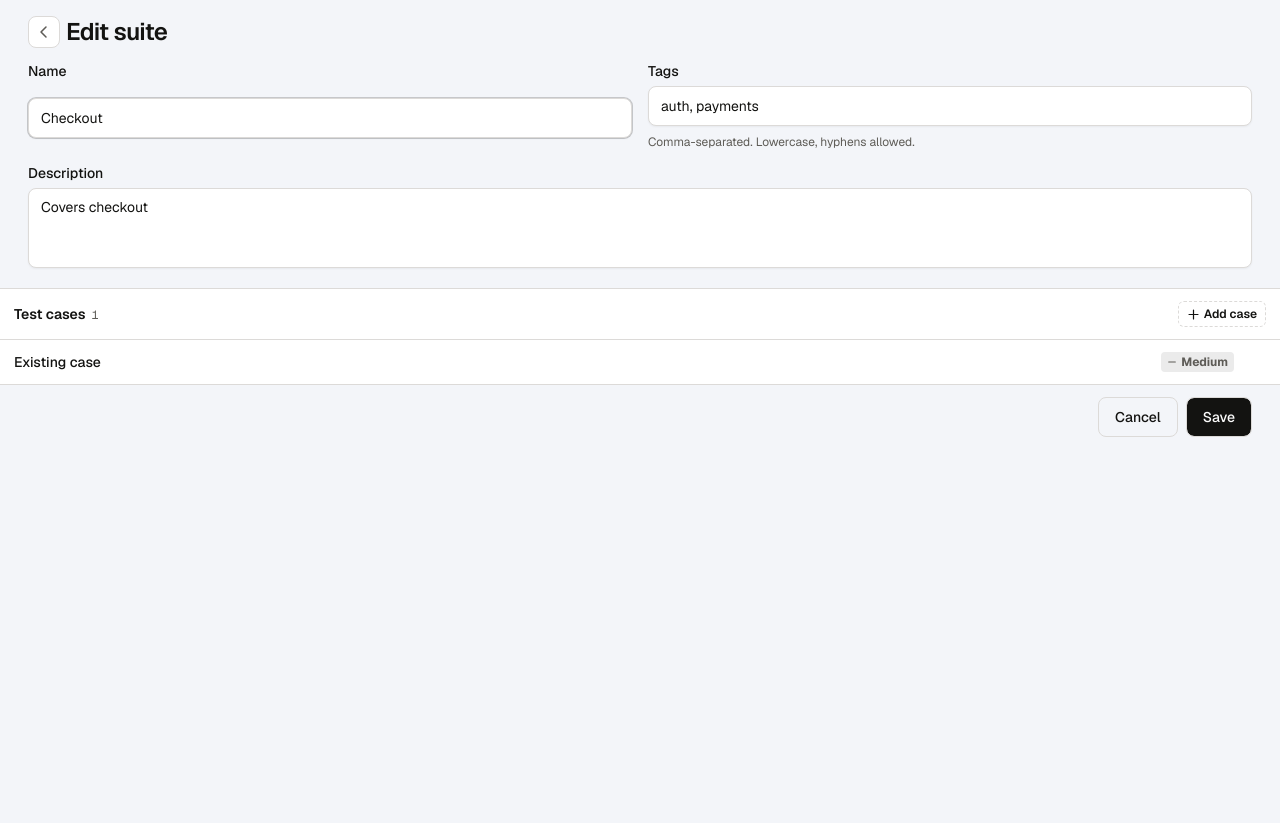
it: SuiteForm › inline case management › on mobile, selecting a case swaps the list for the editor, with a way back
Expected: the button "Add case" is shown, [1178,301,1266,327]
Click the button "Existing case" at (57, 362), box [14,352,1153,372]
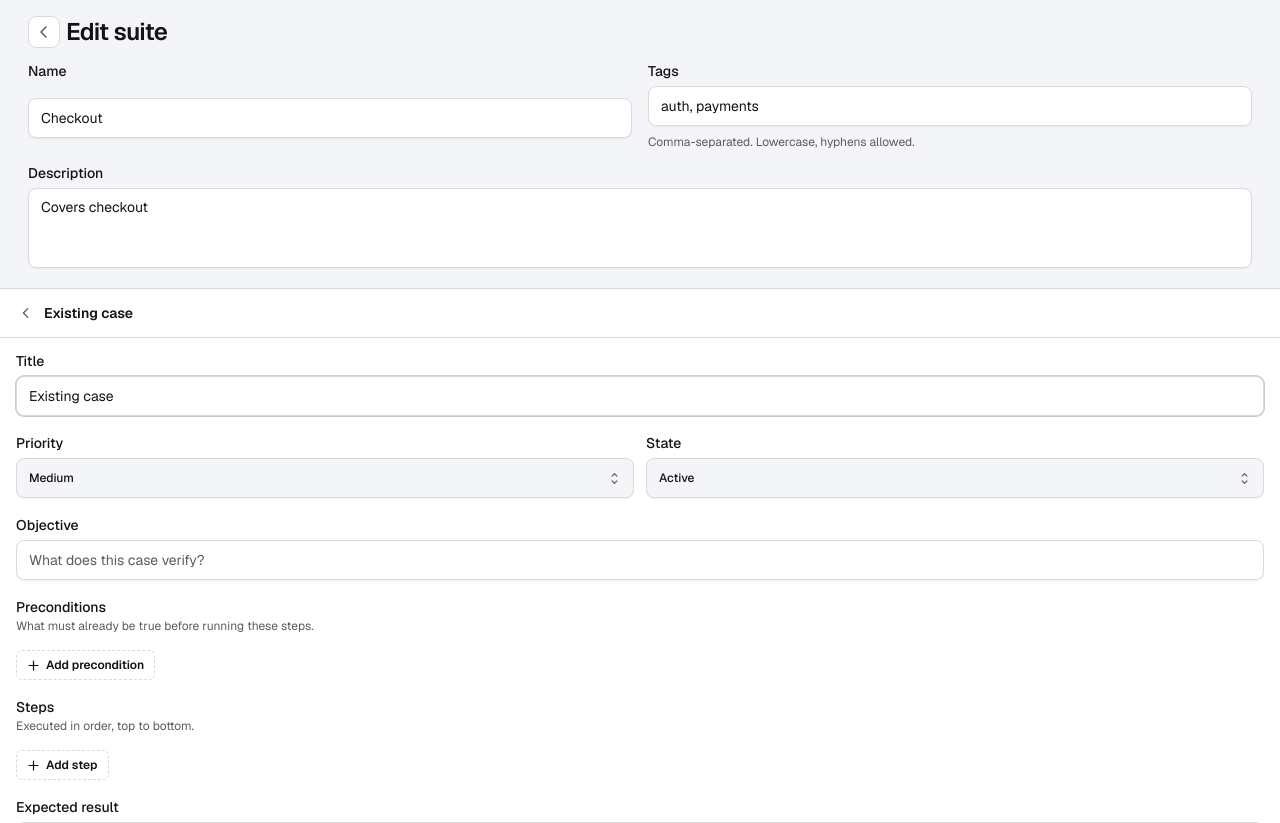
Expected: the heading "Existing case" is shown, [44,303,133,323]
Expected: the button "Add case" is gone
Expected: the field labelled "Title" holds "Existing case", [16,376,1264,416]
Click the button named "Back to cases" at (26, 313), box [14,301,38,325]
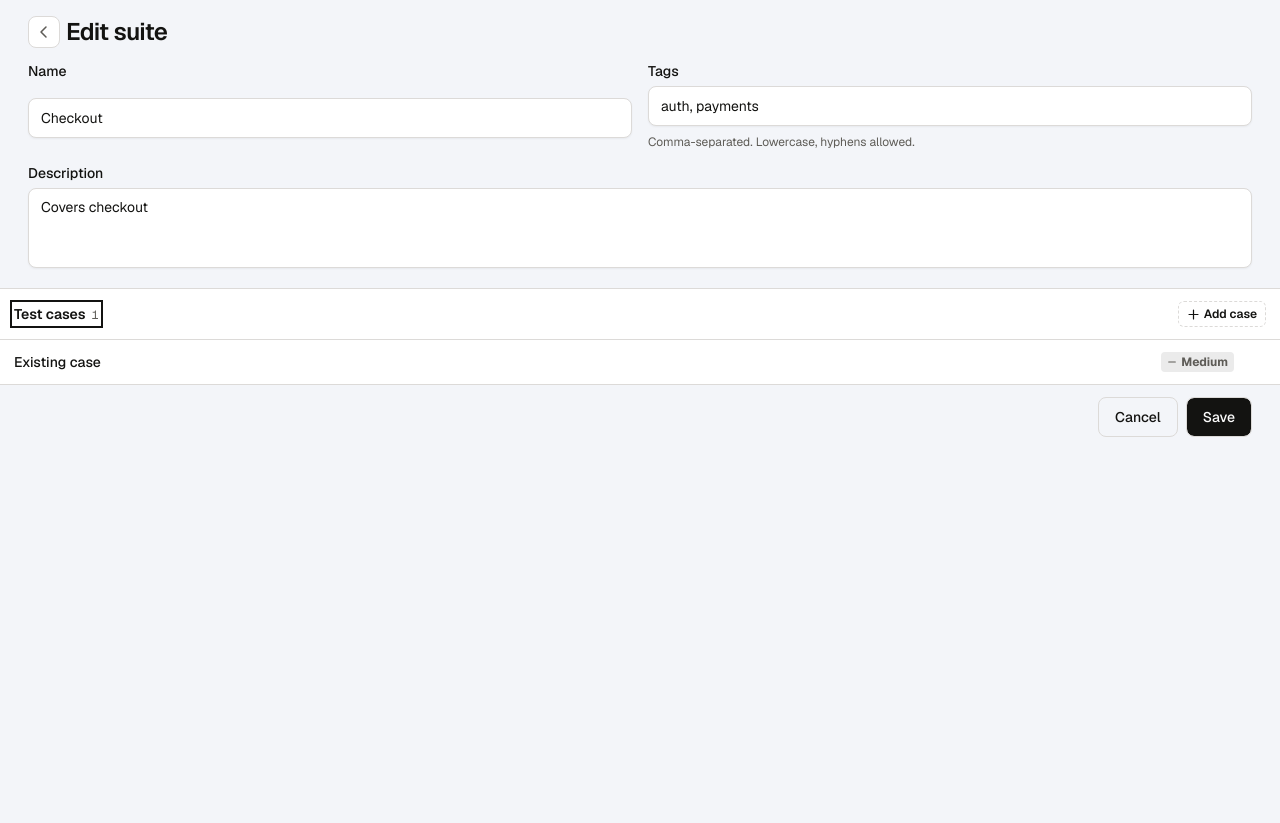
Expected: the button "Add case" is shown, [1178,301,1266,327]
Expected: the label labelled "Title" is gone
